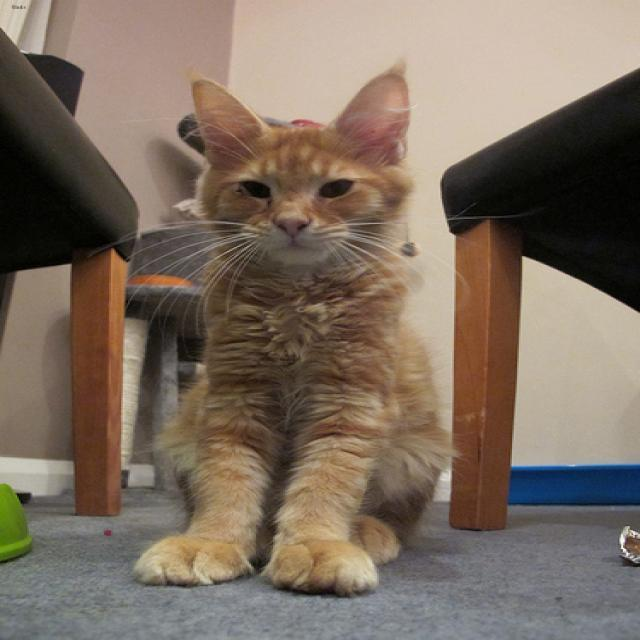Maine_Coon: (176, 60, 426, 267)
